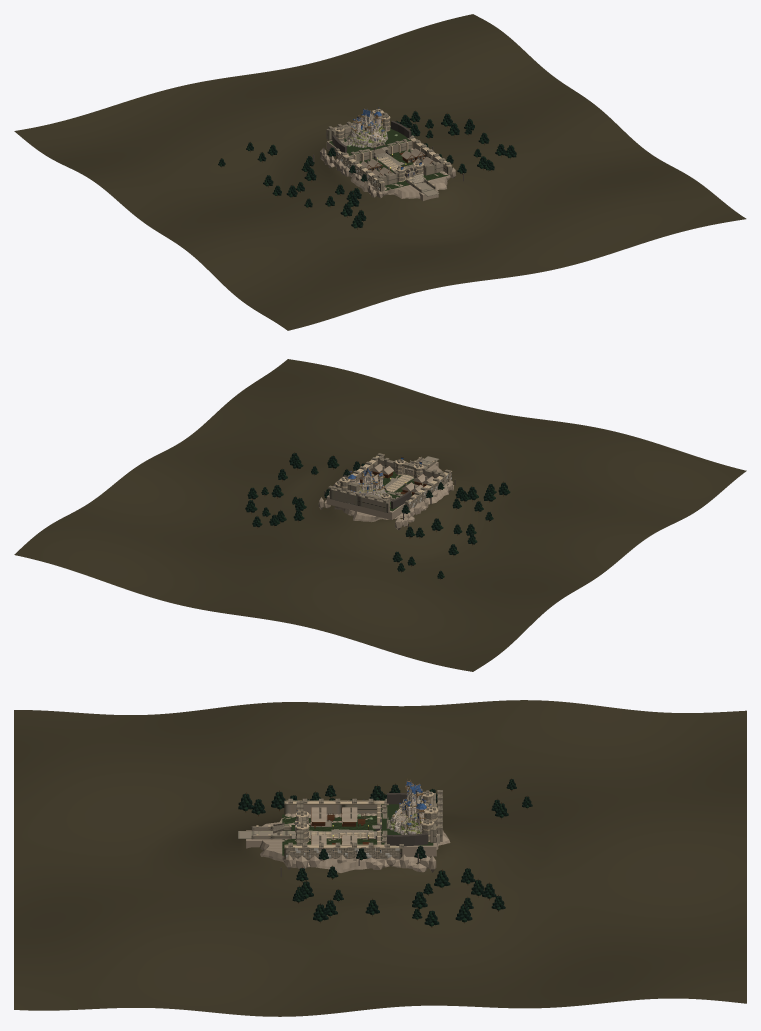
File: ValoriaMeshOnlyWorld.glb
3 views of the same model, one above another, from view 1: azimuth 30°, elevation 25°; view 2: azimuth 150°, elevation 25°; view 3: azimuth 270°, elevation 25° (orthographic). The views are drawn at different scales.
Parts seen in each view (by area): view 1: Static material batch 25 Earth of the plateau, Static material batch 46 Timber, Static material batch 323 Warm weathered structural stone, Static material batch 144 Dark slate bedrock, tripo_node_bf1f4800-483e-473d-8d32-3aa76e0f8da1, Static material batch 267 Masonry copings, Static material batch 2 Grass; view 2: Static material batch 25 Earth of the plateau, Static material batch 46 Timber, Static material batch 323 Warm weathered structural stone, Static material batch 144 Dark slate bedrock, Static material batch 267 Masonry copings, tripo_node_bf1f4800-483e-473d-8d32-3aa76e0f8da1; view 3: Static material batch 25 Earth of the plateau, Static material batch 323 Warm weathered structural stone, Static material batch 46 Timber, Static material batch 144 Dark slate bedrock, Static material batch 267 Masonry copings, tripo_node_bf1f4800-483e-473d-8d32-3aa76e0f8da1, Static material batch 2 Grass, Static material batch 21 Worn road paving.
Part boxes in pixels (x1,y1,x2,y2): Static material batch 25 Earth of the plateau: (14,14,746,330); Static material batch 46 Timber: (218,110,516,229); Static material batch 323 Warm weathered structural stone: (326,109,451,192); Static material batch 144 Dark slate bedrock: (319,125,455,200); tripo_node_bf1f4800-483e-473d-8d32-3aa76e0f8da1: (345,107,387,147); Static material batch 267 Masonry copings: (335,109,452,188); Static material batch 2 Grass: (329,126,447,190); Static material batch 25 Earth of the plateau: (14,359,746,671); Static material batch 46 Timber: (245,452,510,579); Static material batch 323 Warm weathered structural stone: (328,453,451,512); Static material batch 144 Dark slate bedrock: (318,458,453,530); Static material batch 267 Masonry copings: (335,454,452,506); tripo_node_bf1f4800-483e-473d-8d32-3aa76e0f8da1: (347,467,386,506); Static material batch 25 Earth of the plateau: (14,700,746,1016); Static material batch 323 Warm weathered structural stone: (251,790,442,859); Static material batch 46 Timber: (238,778,532,927); Static material batch 144 Dark slate bedrock: (246,803,450,872); Static material batch 267 Masonry copings: (256,791,438,857); tripo_node_bf1f4800-483e-473d-8d32-3aa76e0f8da1: (389,779,431,834); Static material batch 2 Grass: (282,804,433,855); Static material batch 21 Worn road paving: (238,820,417,838).
Bounding box in the file's own units: 300 × 39.09 × 310.
34 materials, 27 textured.
